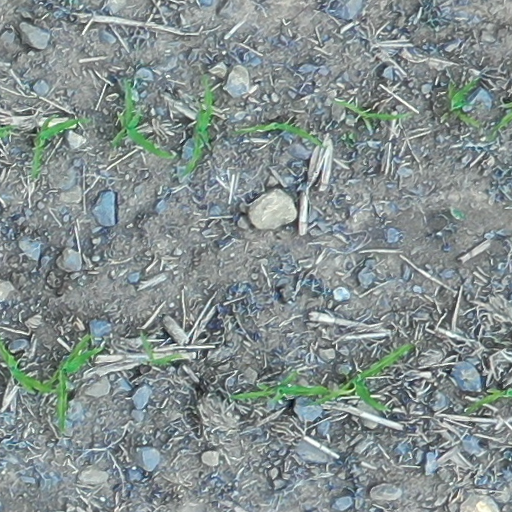planta: (308, 341, 419, 415), (36, 329, 107, 434), (108, 75, 178, 162), (229, 366, 358, 408), (27, 110, 92, 183), (179, 76, 217, 179), (231, 118, 326, 149), (330, 97, 412, 132), (442, 72, 485, 130), (136, 331, 184, 370)
